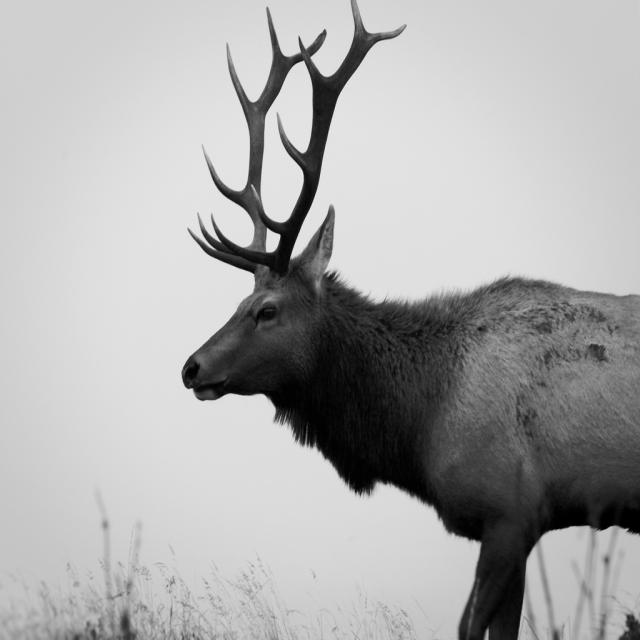deer: (136, 10, 587, 569)
